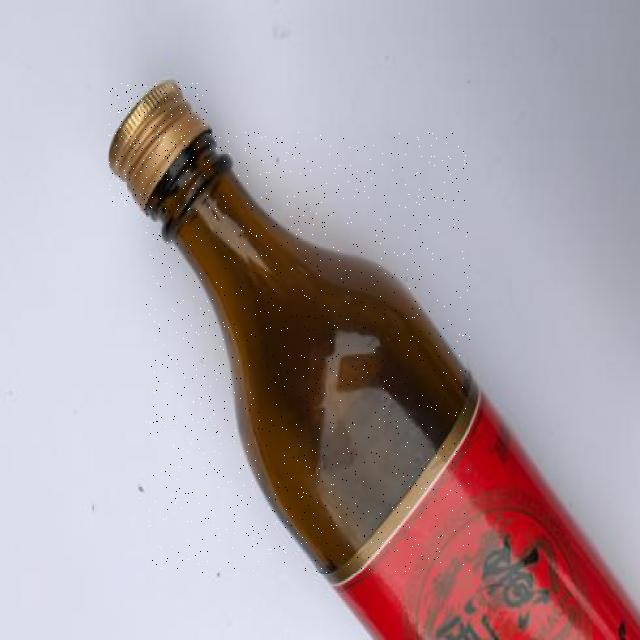glass: (147, 132, 470, 572)
metal: (110, 82, 208, 211)
